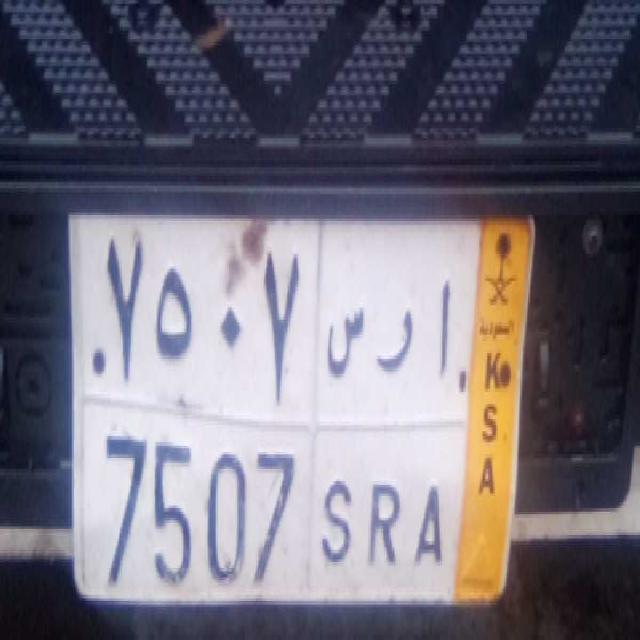license_plate: (82, 403, 462, 599)
